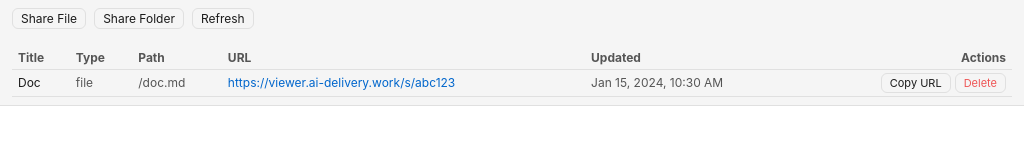
Test: CloudSharePanel › shows 'Copied!' after clicking Copy URL
The width and height of the screenshot is (1024, 160).
Click the button "Copy URL": [916, 83] box x1=881 y1=73 x2=951 y2=93
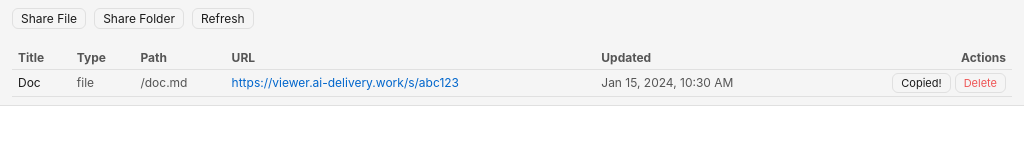
Now the button "Copied!" is shown, box x1=892 y1=73 x2=951 y2=93
